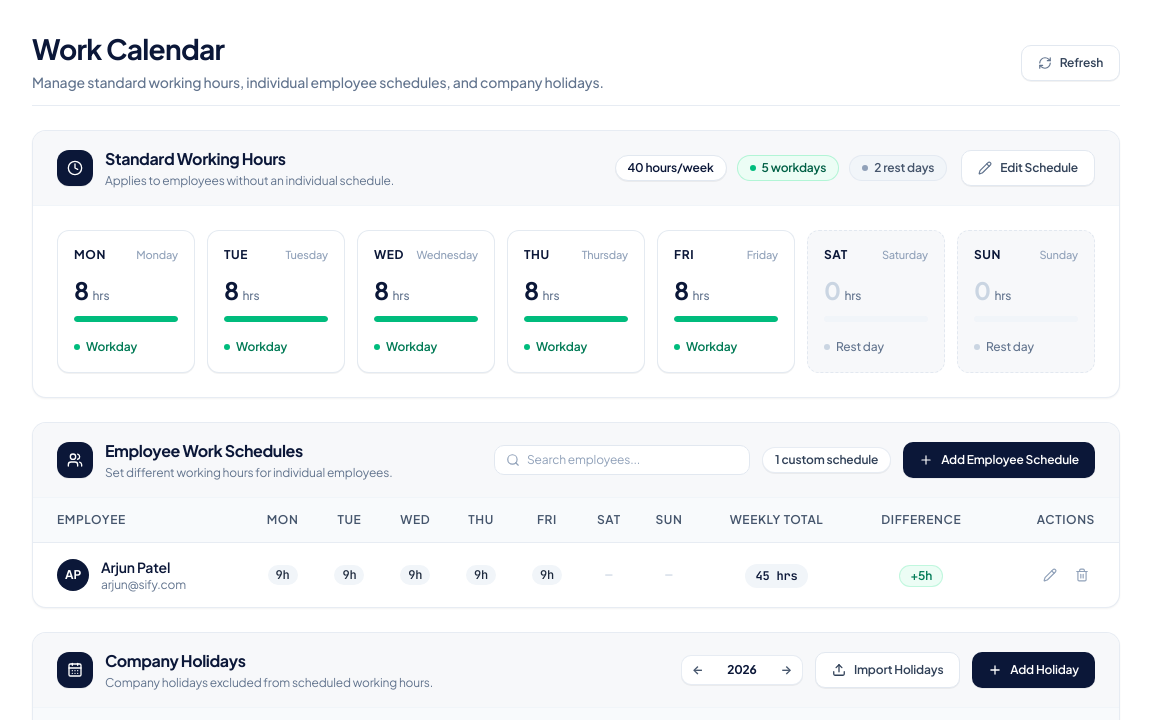
Test: WorkCalendar Unified Workspace › navigates previous and next years for company holidays
Expected: the text "2026" is shown, [727,662,757,676]
Click the button named "previous year" at point(698, 670), box [684,658,711,682]
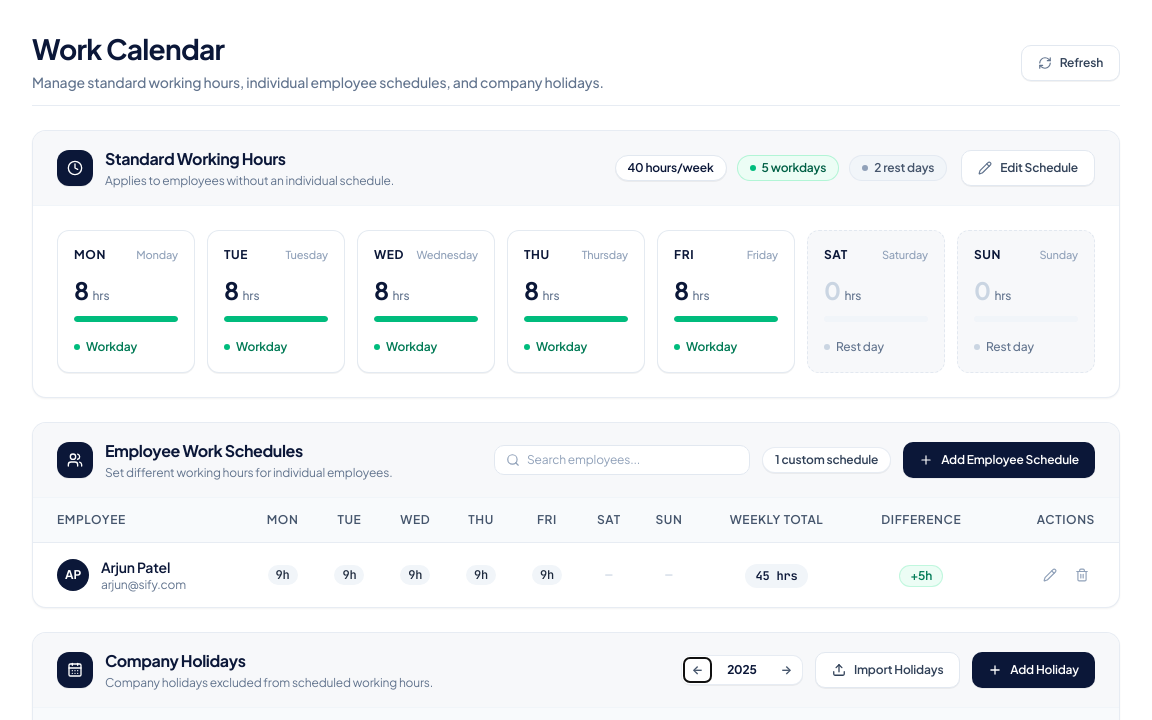
Click the button named "next year" at point(786, 670), box [773,658,800,682]
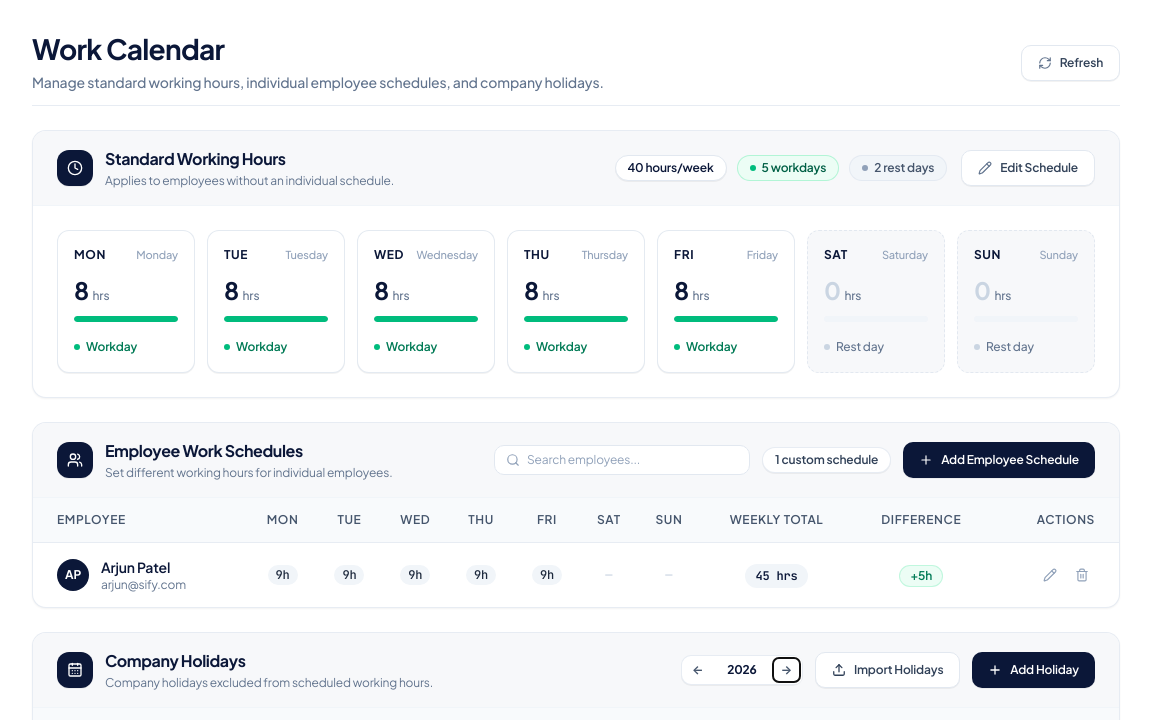
Result: the text "2026" is shown at [727,662,757,676]
